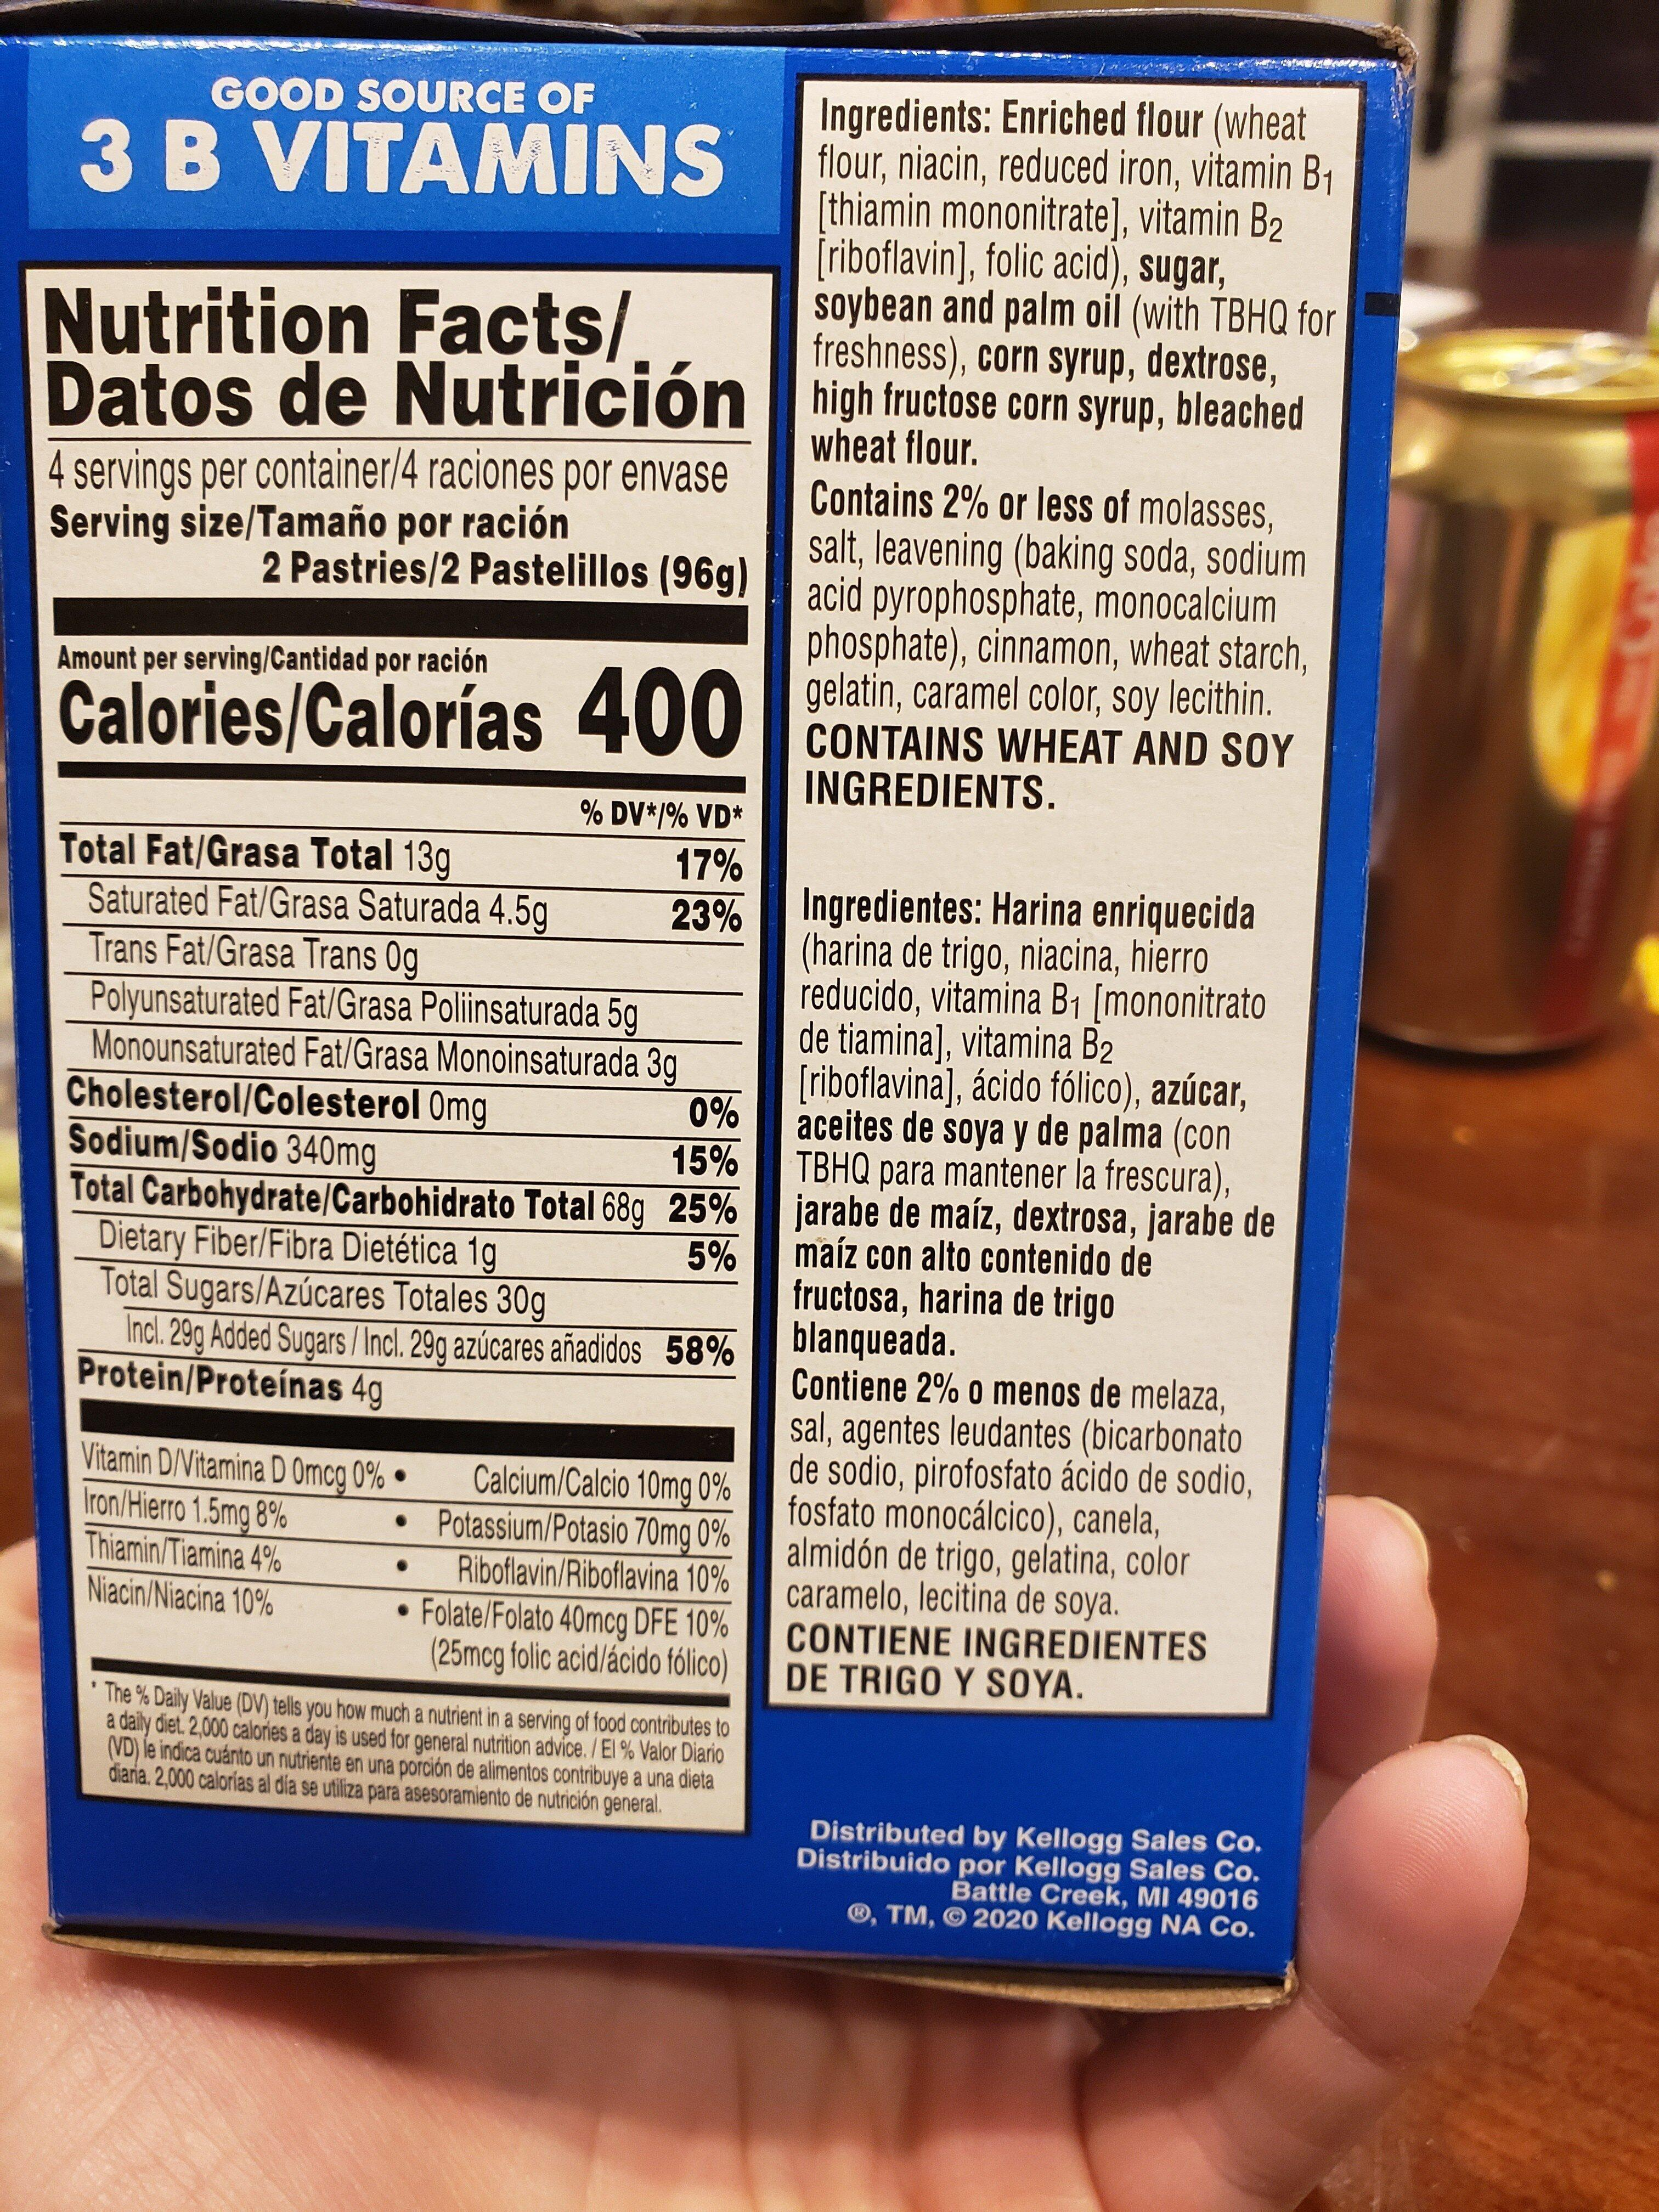ingredients: (795, 84, 1352, 482)
